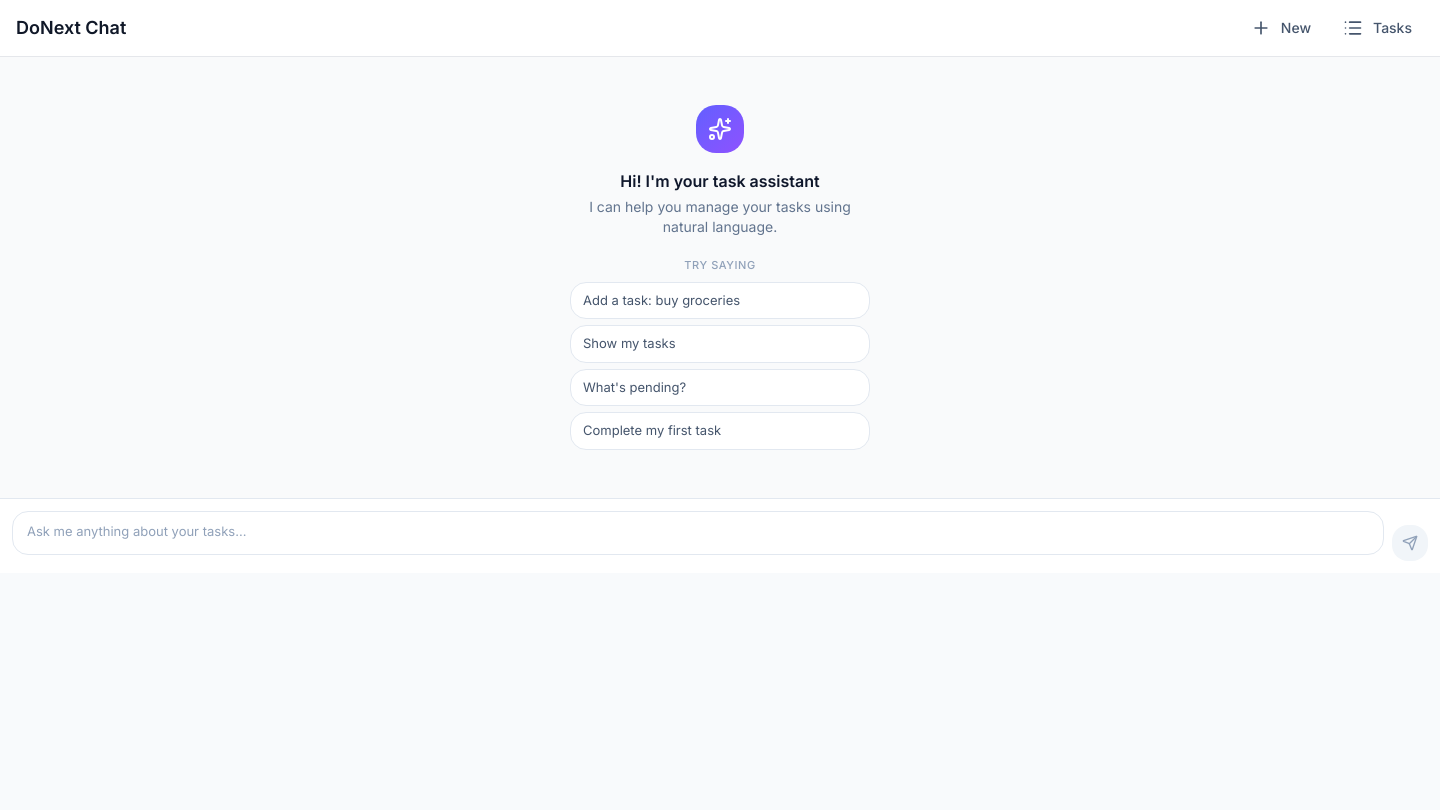
Test: ChatContainer › sends message and shows AI response
Type "Add a task" into the text box with placeholder "Ask me anything about your tasks...". click: (698, 532)
box: 12,510 -> 1384,554
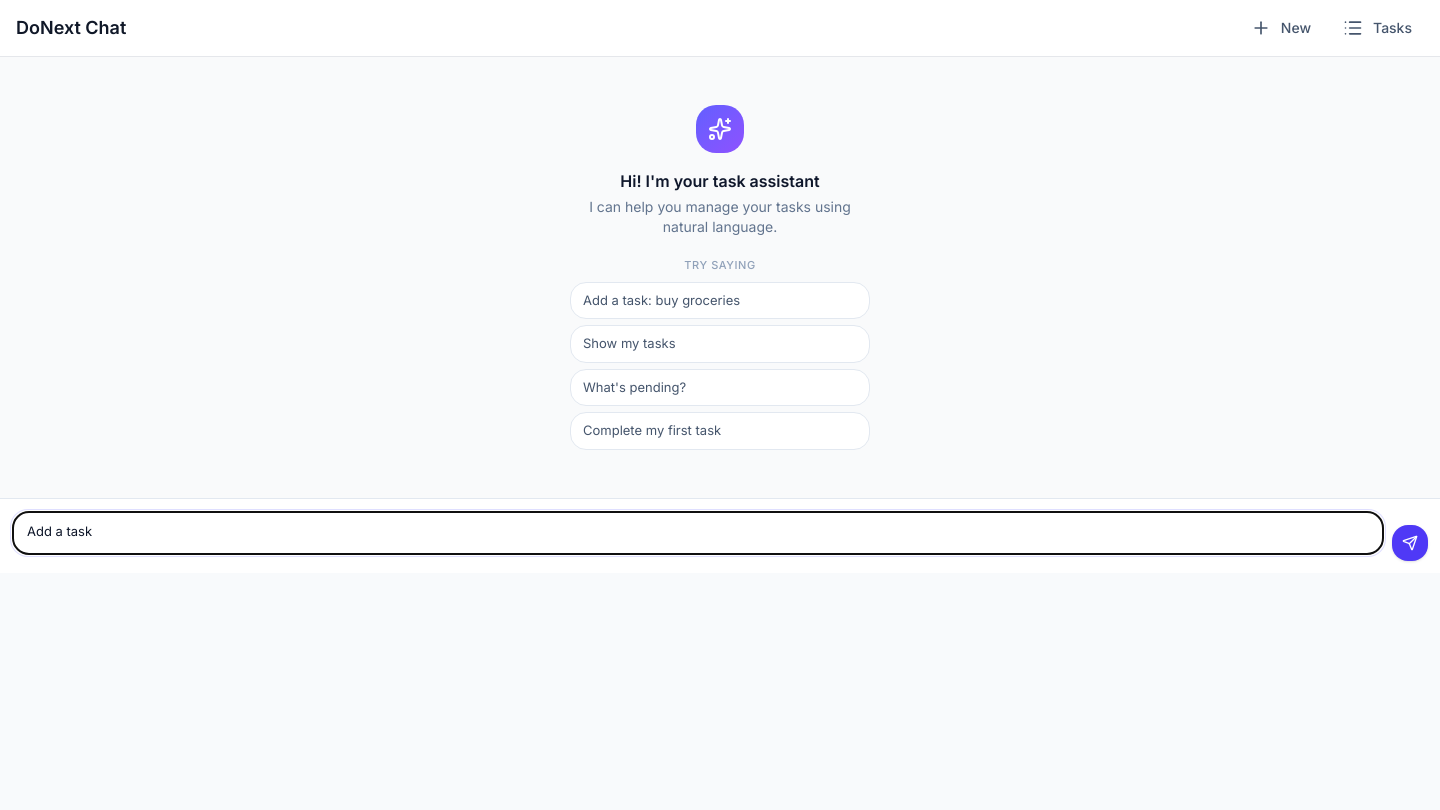
Click the button named "Send message". click: (1410, 542)
box: 1392,524 -> 1428,560
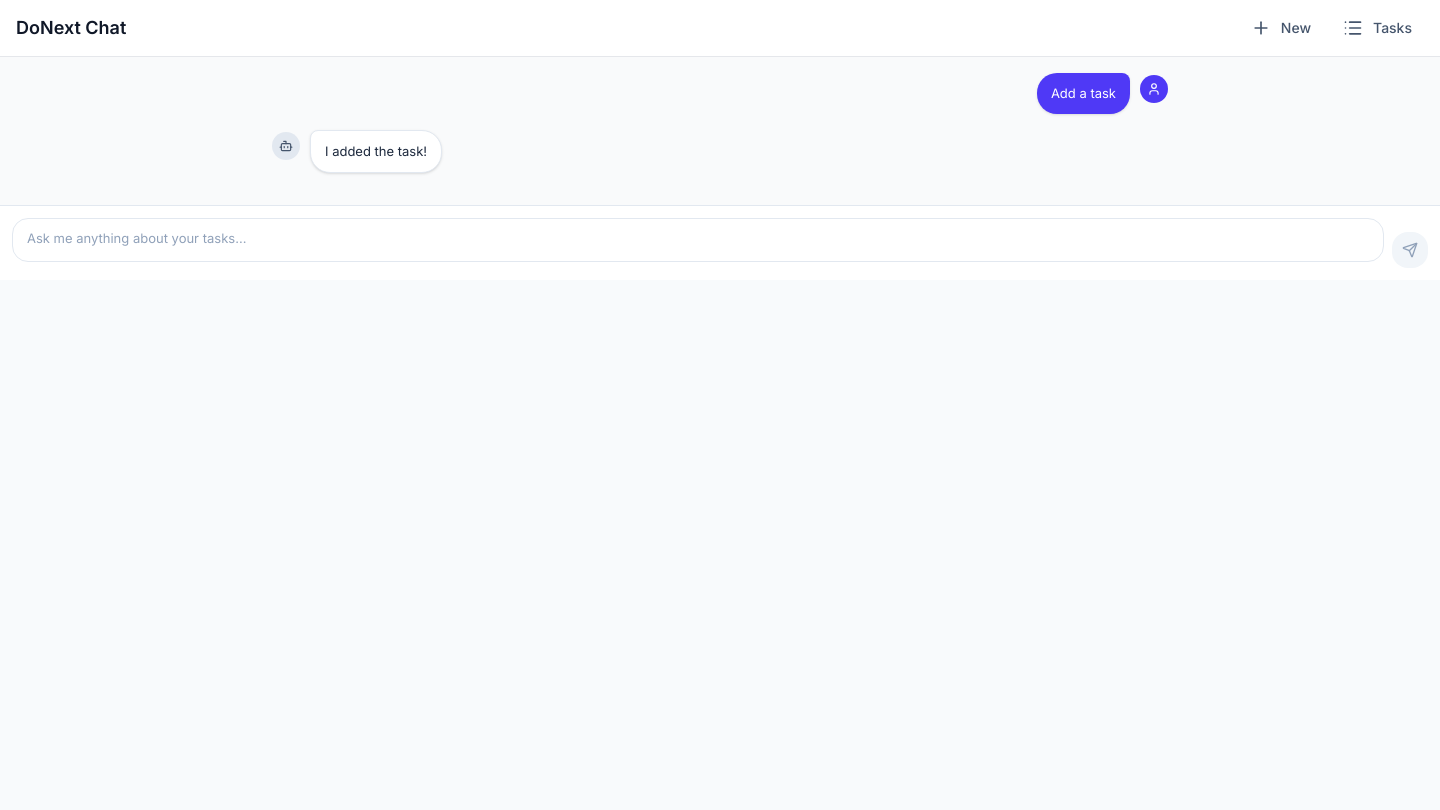
Expected: the text "Add a task" is shown, 1051,83 -> 1116,104
Now the text "I added the task!" is shown, box 325,141 -> 427,162
